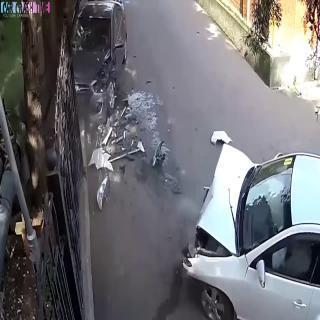multiple_accident: (64, 5, 305, 302)
